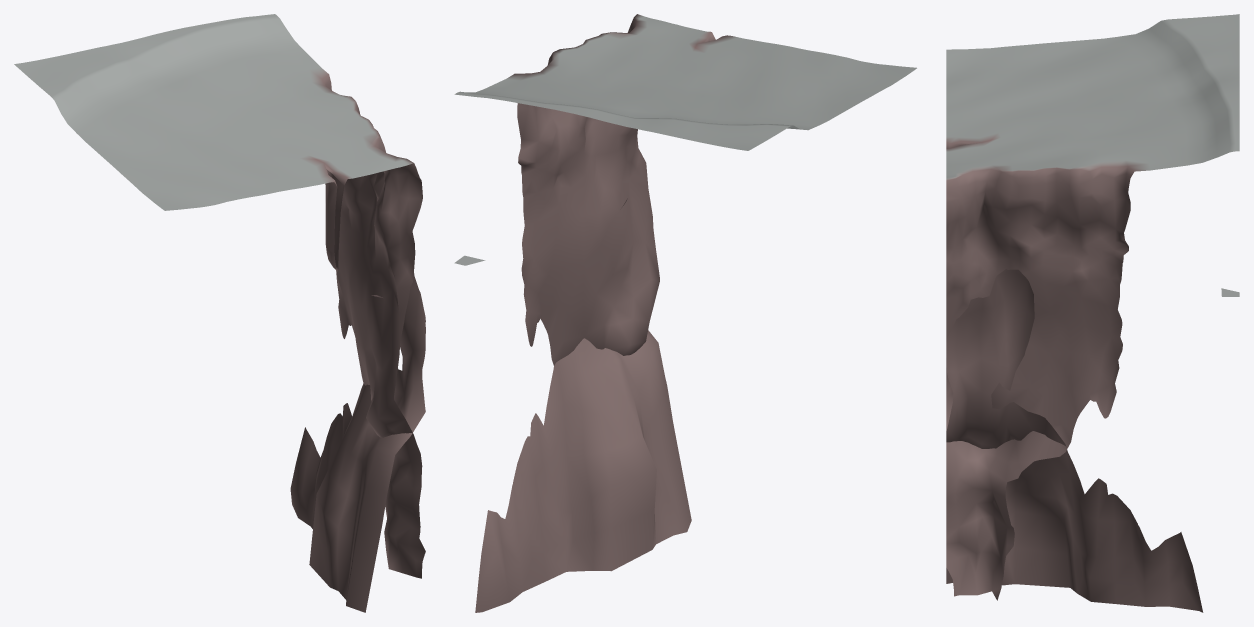
3 views of the same model, side by side, from view 1: azimuth 30°, elevation 25°; view 2: azimuth 150°, elevation 25°; view 3: azimuth 270°, elevation 25° (orthographic). The views are drawn at different scales.
Parts seen in each view (by area): view 1: G:\FFXIV-MapTools\exports\u5f1\bg\ex4\04_uvs_u5\fld\u5f1\bgp (×12); view 2: G:\FFXIV-MapTools\exports\u5f1\bg\ex4\04_uvs_u5\fld\u5f1\bgp (×10); view 3: G:\FFXIV-MapTools\exports\u5f1\bg\ex4\04_uvs_u5\fld\u5f1\bgp (×12).
Boxes of the visible parts, box(x1,y1,x2,y2) form: G:\FFXIV-MapTools\exports\u5f1\bg\ex4\04_uvs_u5\fld\u5f1\bgp (×12): box(14, 14, 425, 612); G:\FFXIV-MapTools\exports\u5f1\bg\ex4\04_uvs_u5\fld\u5f1\bgp (×10): box(454, 14, 916, 612); G:\FFXIV-MapTools\exports\u5f1\bg\ex4\04_uvs_u5\fld\u5f1\bgp (×12): box(946, 14, 1239, 612).
Bounding box in the file's own units: 128 × 229 × 128.
